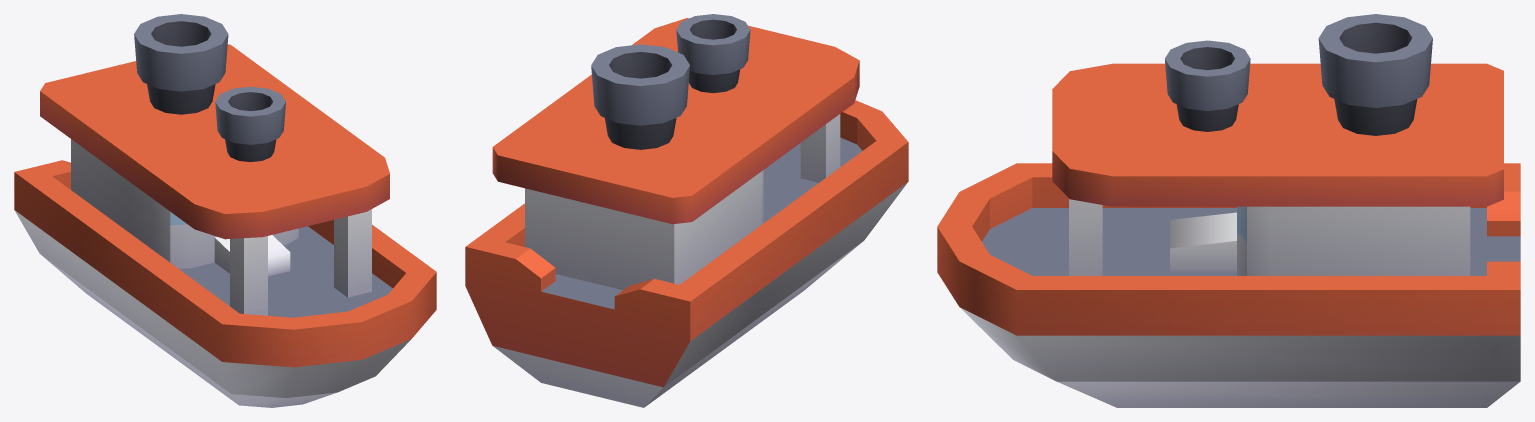
The model's file is boat-tug-a.glb.
The picture shows the model from 3 angles, left to right: view 1: azimuth 30°, elevation 25°; view 2: azimuth 150°, elevation 25°; view 3: azimuth 270°, elevation 25°; orthographic projection. The views are drawn at different scales.
Parts seen in each view (by area): view 1: boat-tug-a; view 2: boat-tug-a; view 3: boat-tug-a.
Part boxes in pixels (x1,y1,x2,y2): boat-tug-a: [14, 14, 436, 407]; boat-tug-a: [465, 14, 908, 407]; boat-tug-a: [937, 14, 1520, 407].
Size of the model in its own units: 1.79 by 2.24 by 3.47.
Materials: 1 (1 with a texture image).
